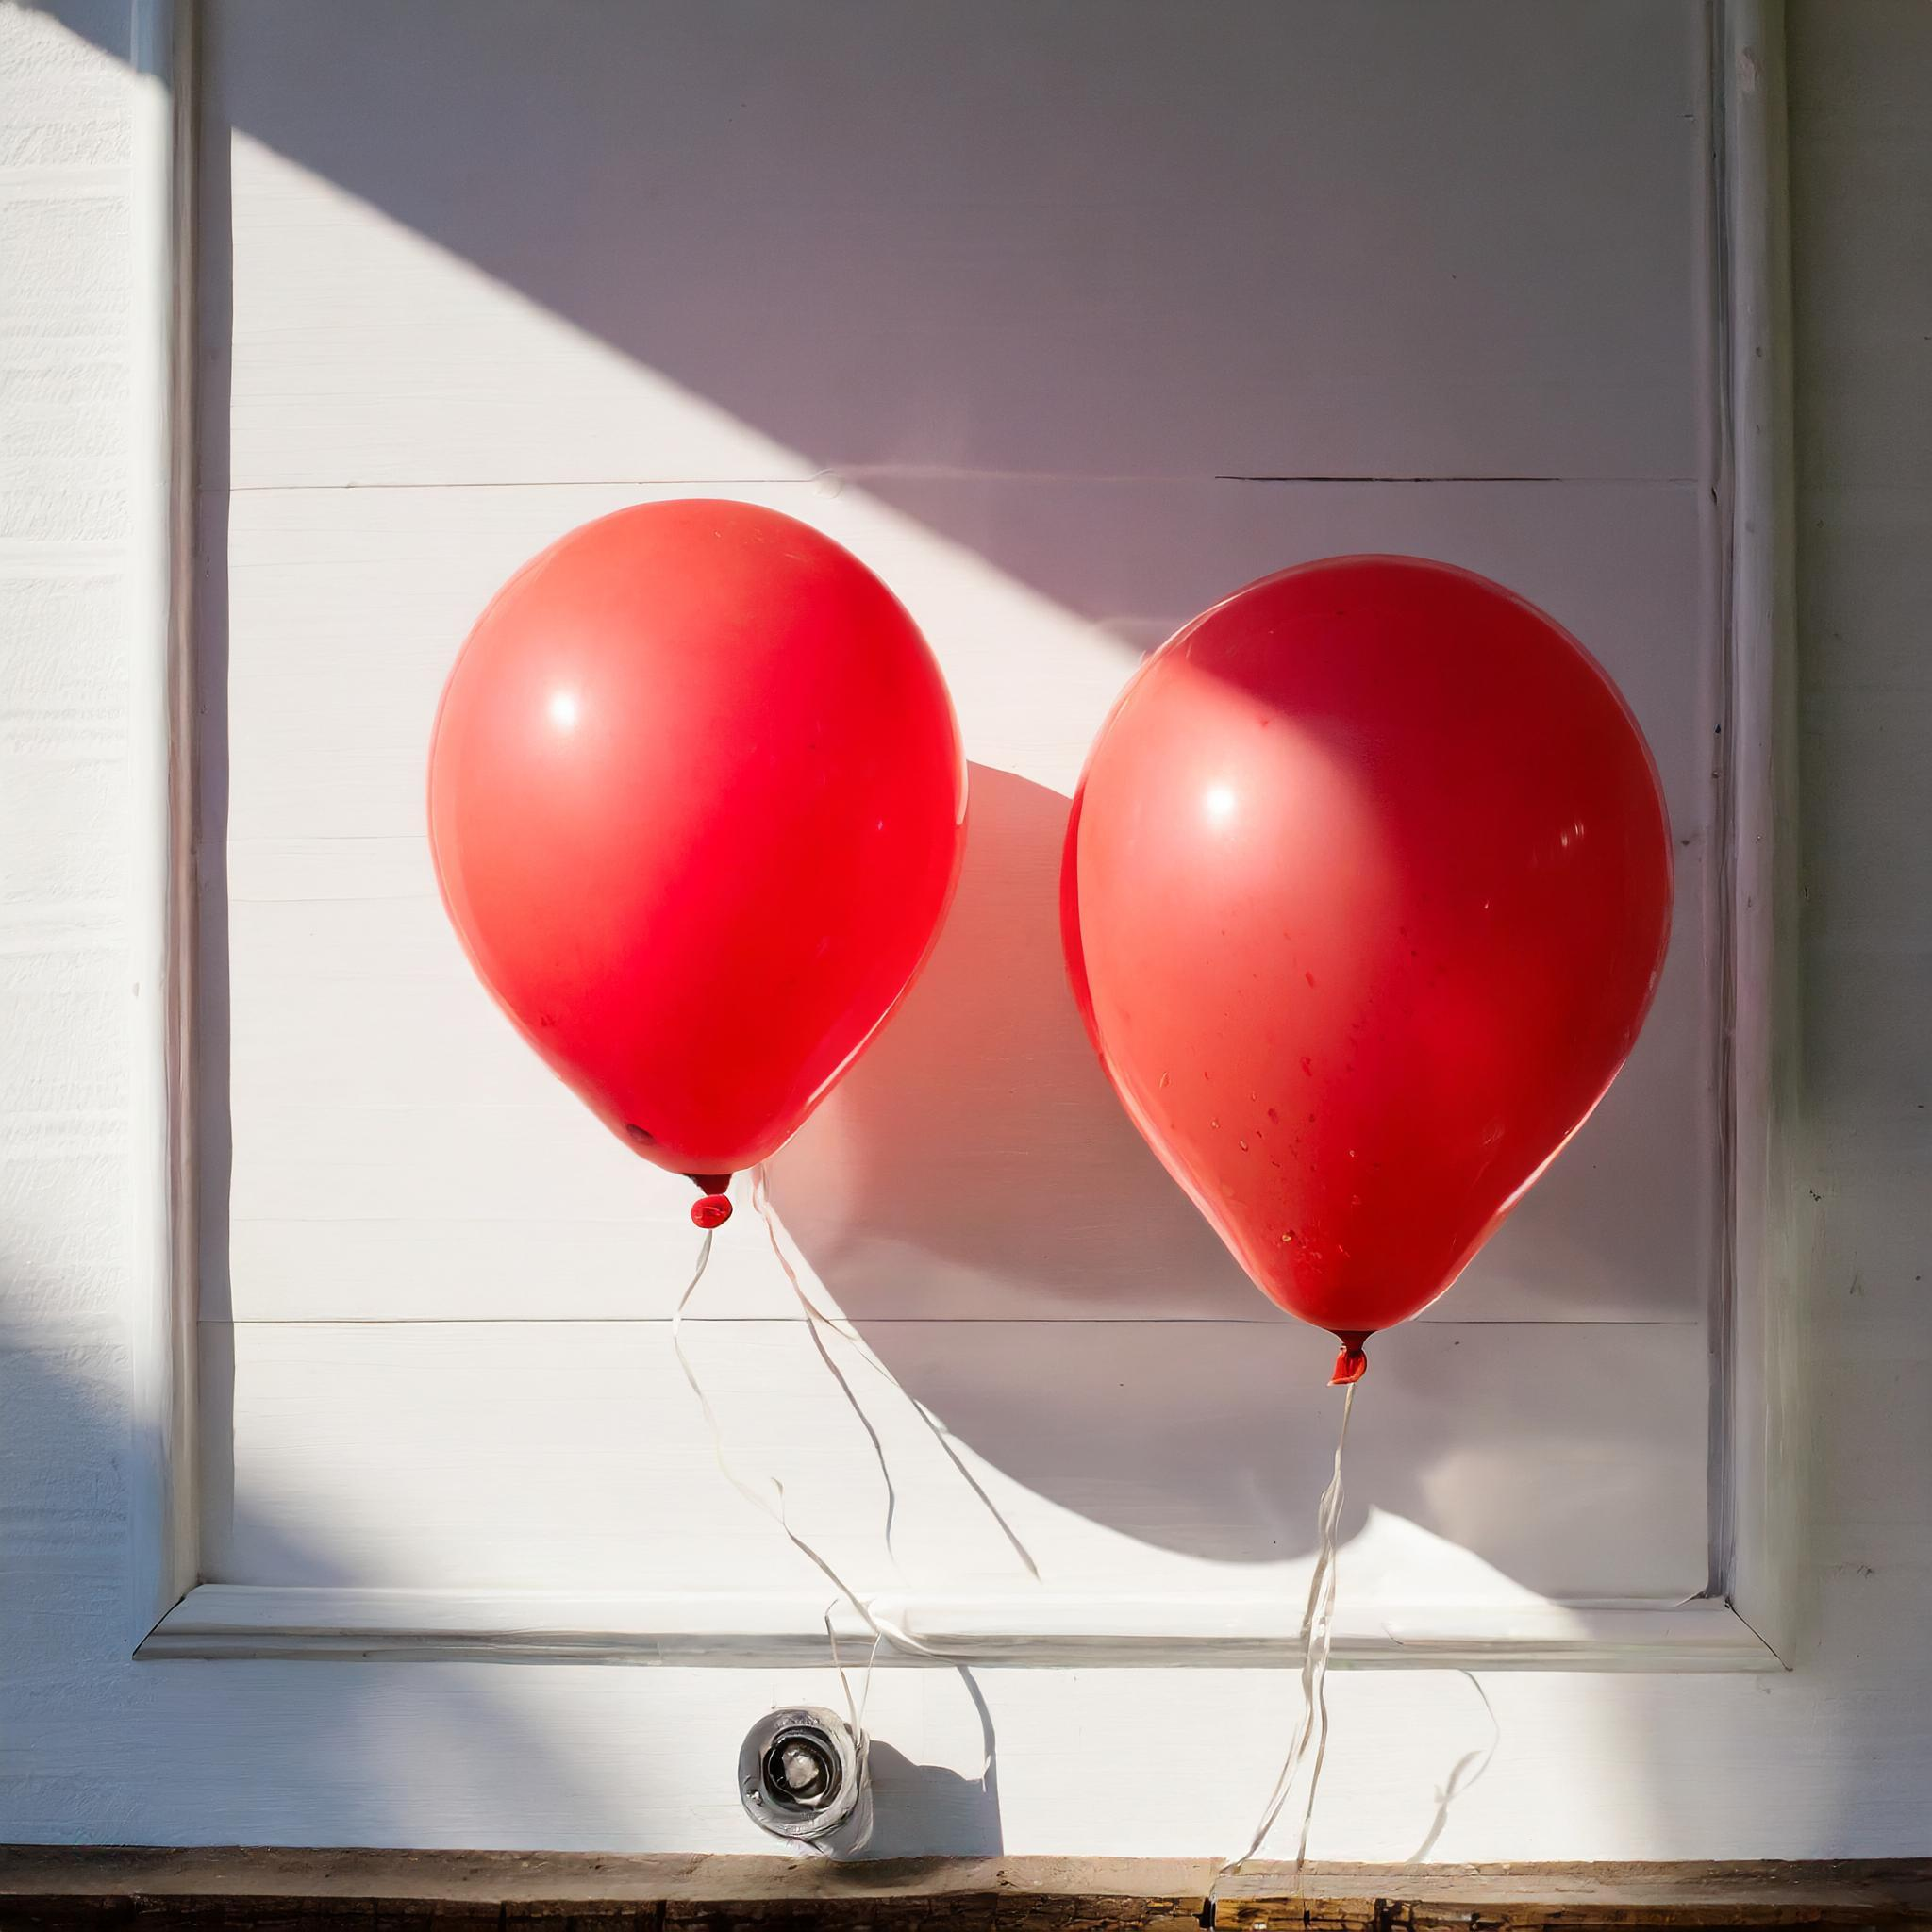red: (1044, 501, 1686, 1412), (387, 464, 996, 1297)
